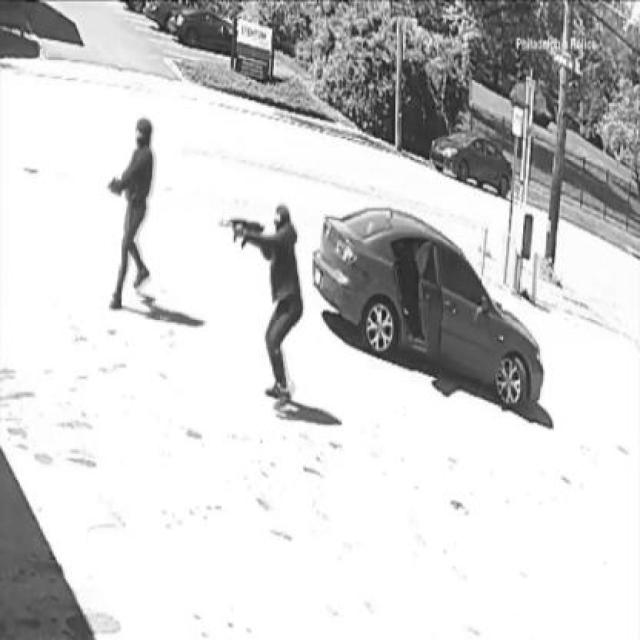weapon: (217, 215, 265, 250), (106, 178, 123, 197)
